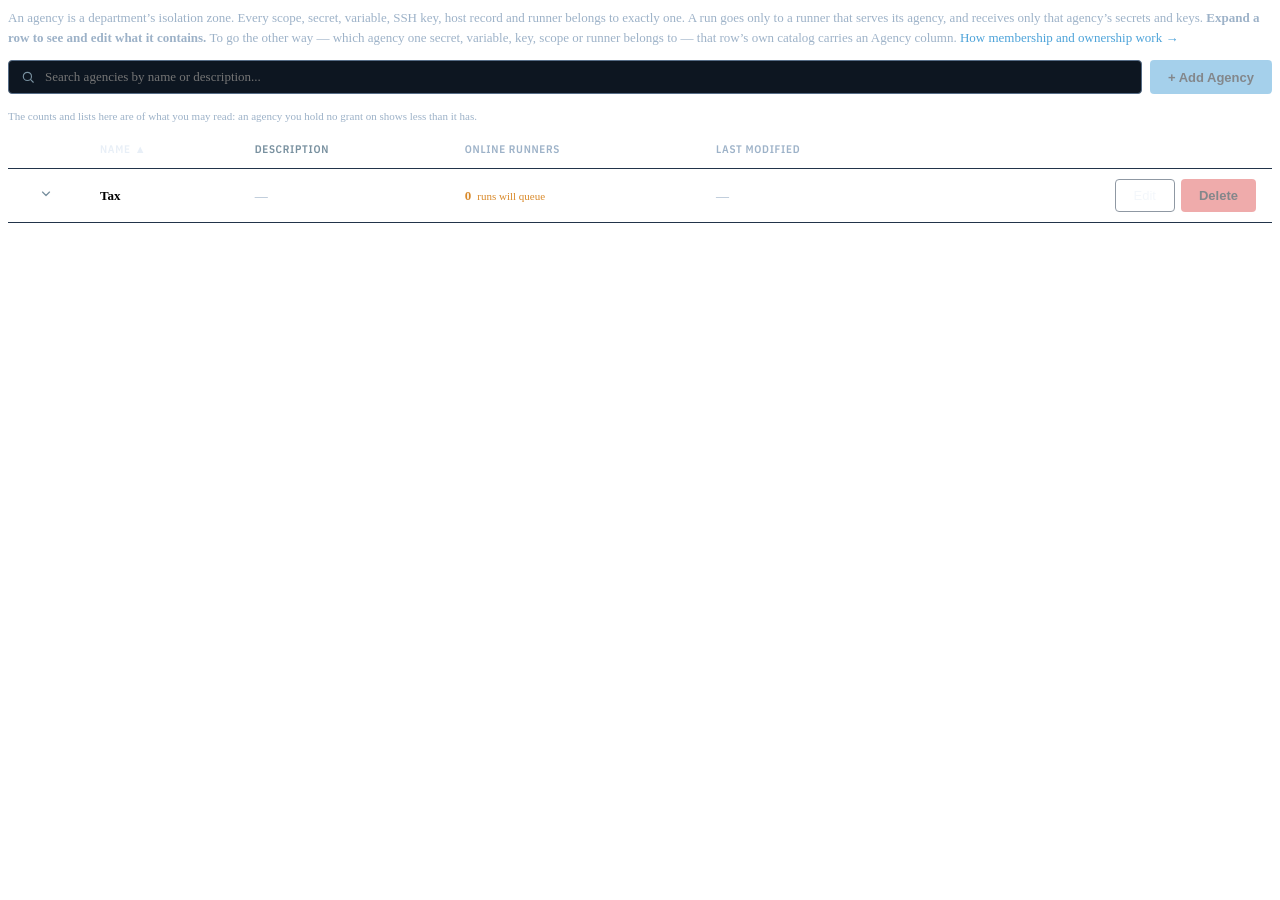
Test: an agency's concurrency cap (QT-1) › is shown, not edited, to anyone else, with the reason
Expected: the text "Tax" is shown, 84,169 -> 239,223
Click the text "Tax" at (640, 196), box 8,169 -> 1272,223
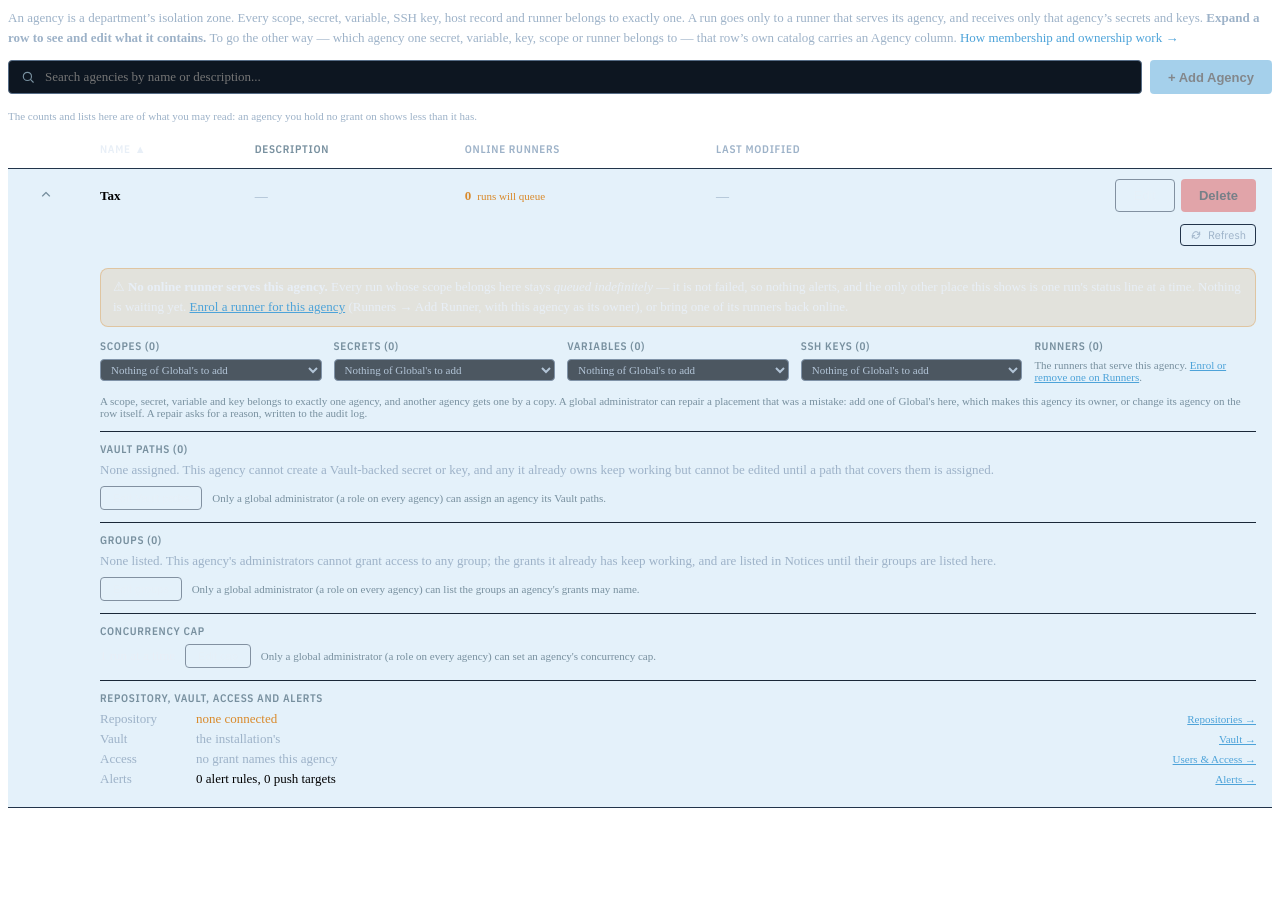
Expected: the text "Concurrency cap" is shown, 100,624 -> 205,638
Expected: the button "Edit cap" is disabled, 185,644 -> 251,668
